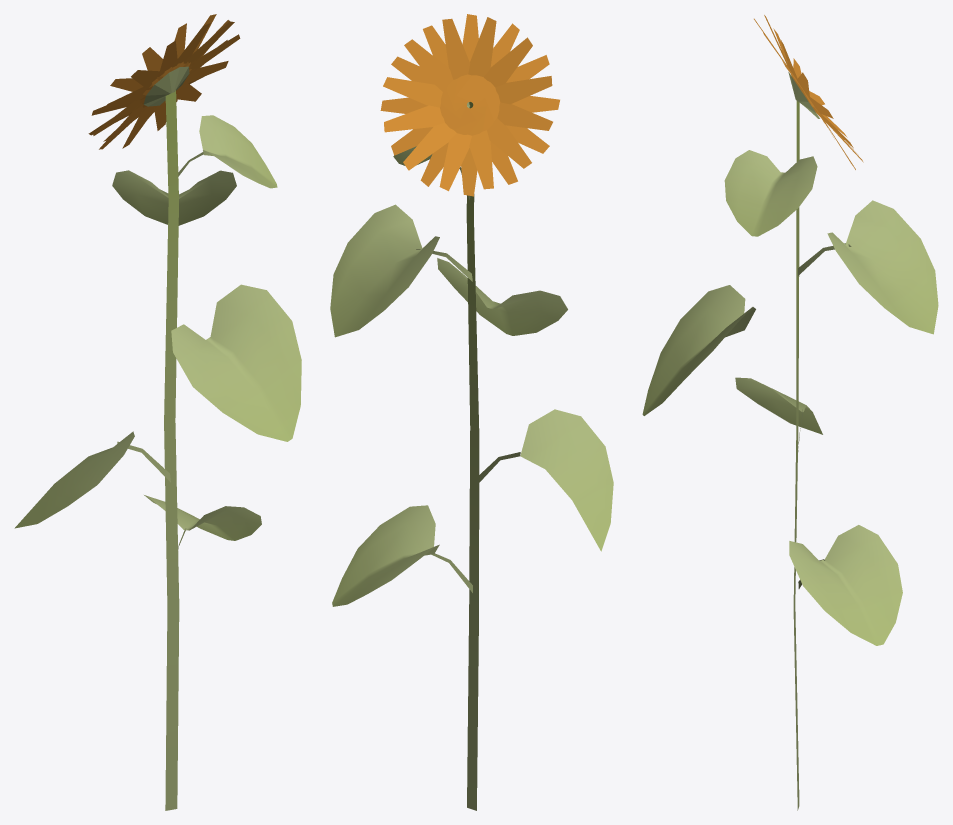
Rendered from TheSunflovrLowBack.fbx.
3 renders of one model, left to right at view 1: azimuth 30°, elevation 25°; view 2: azimuth 150°, elevation 25°; view 3: azimuth 270°, elevation 25°, orthographic. The views are drawn at different scales.
Parts seen in each view (by area): view 1: SunfloverLowBack_group4_pCube1, SunfloverLowBack_group2_group1_pPlane24; view 2: SunfloverLowBack_group4_pCube1, SunfloverLowBack_group2_group1_pPlane24; view 3: SunfloverLowBack_group4_pCube1, SunfloverLowBack_group2_group1_pPlane24.
Boxes of the visible parts, <box> form: SunfloverLowBack_group4_pCube1: <box>14,90,301,810</box>; SunfloverLowBack_group2_group1_pPlane24: <box>88,14,240,149</box>; SunfloverLowBack_group4_pCube1: <box>330,102,613,810</box>; SunfloverLowBack_group2_group1_pPlane24: <box>380,14,559,196</box>; SunfloverLowBack_group4_pCube1: <box>642,99,938,810</box>; SunfloverLowBack_group2_group1_pPlane24: <box>754,15,863,169</box>.
Size of the model in its own units: 0.8245 by 2.51 by 0.8531.
